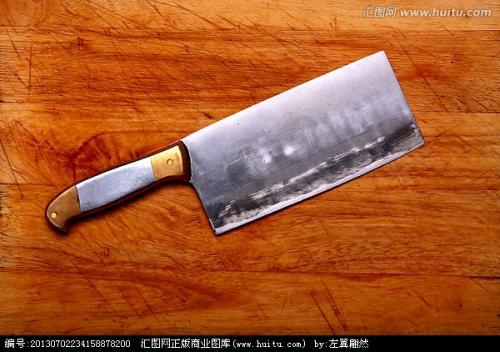knief: (29, 49, 439, 225)
